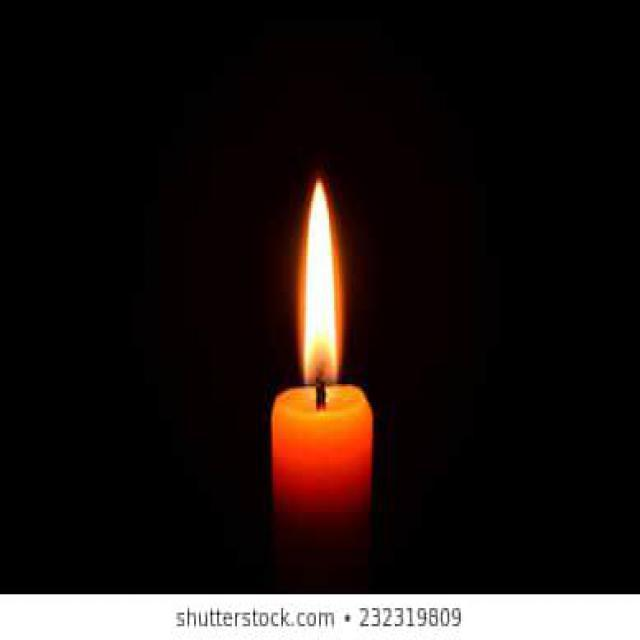Fire: (302, 177, 338, 388)
